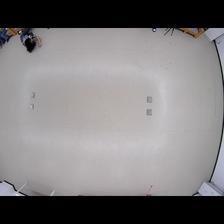fall: (18, 26, 41, 51)
